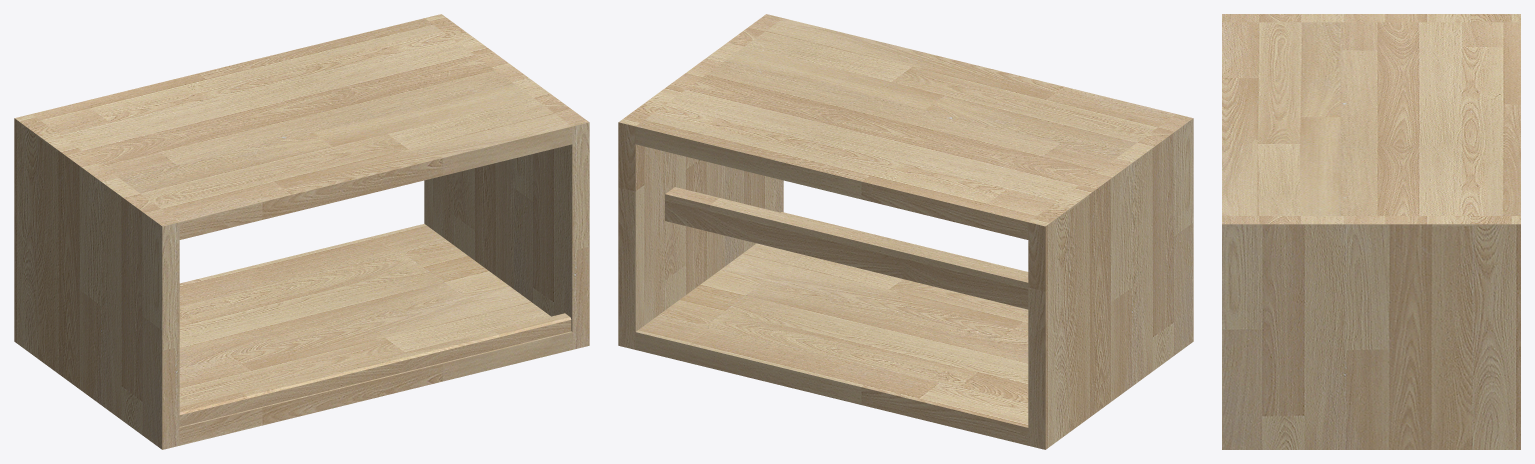
3 views of the same model, side by side, from view 1: azimuth 30°, elevation 25°; view 2: azimuth 150°, elevation 25°; view 3: azimuth 270°, elevation 25° (orthographic).
Parts seen in each view (by area): view 1: lamel; view 2: lamel; view 3: lamel.
Boxes of the visible parts, x1,y1,x2,y2 form: lamel: (14,14,589,449); lamel: (618,14,1193,449); lamel: (1222,14,1520,449).
Bounding box in the file's own units: 0.5 × 0.25 × 0.3.
1 material, 1 textured.
